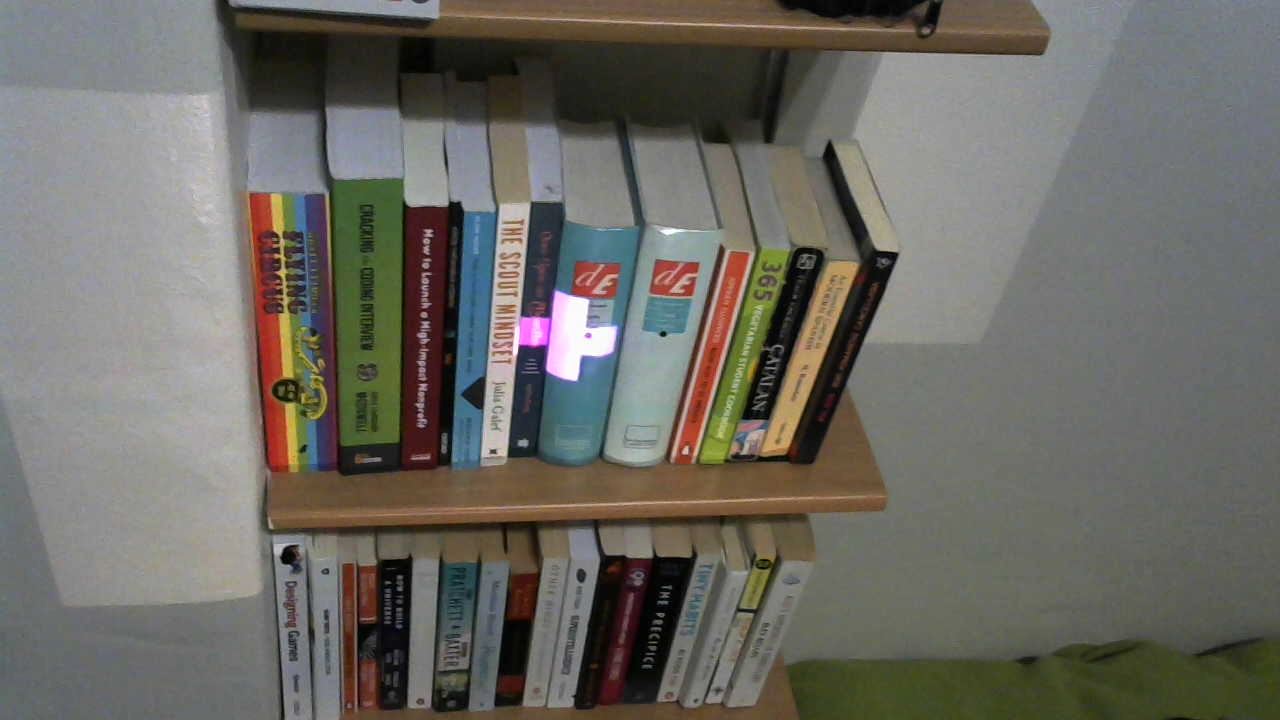calibration_symbol: (520, 289, 618, 382)
